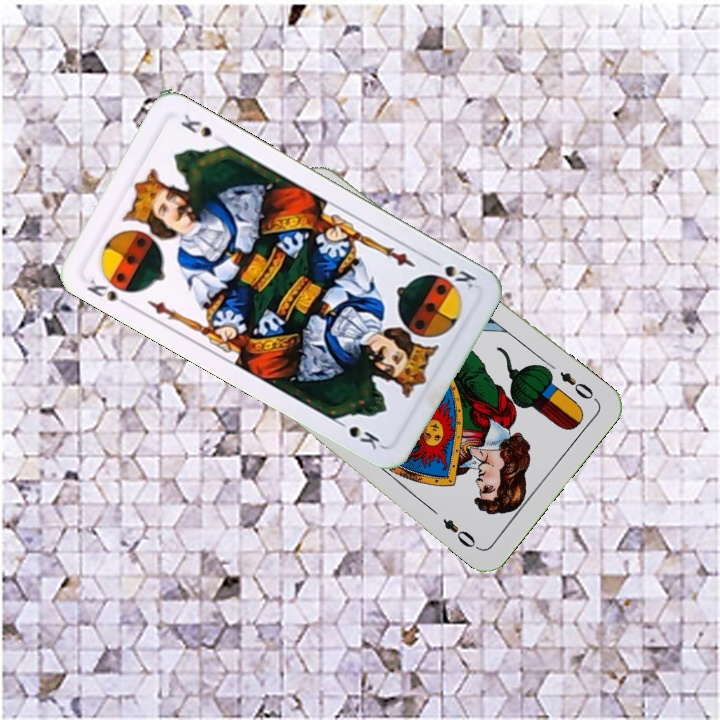EO: (555, 367, 600, 404)
SK: (425, 254, 479, 291), (82, 274, 134, 310)
